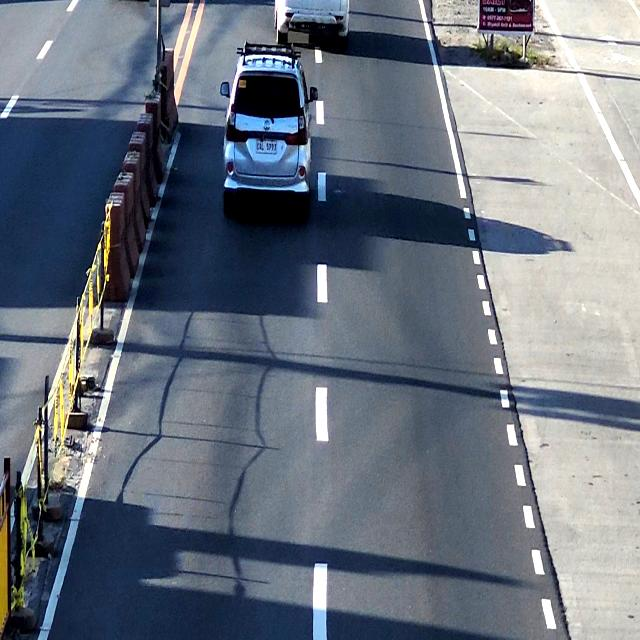Car: (218, 41, 316, 209), (273, 0, 349, 47)
License-Plate: (256, 140, 277, 158)
